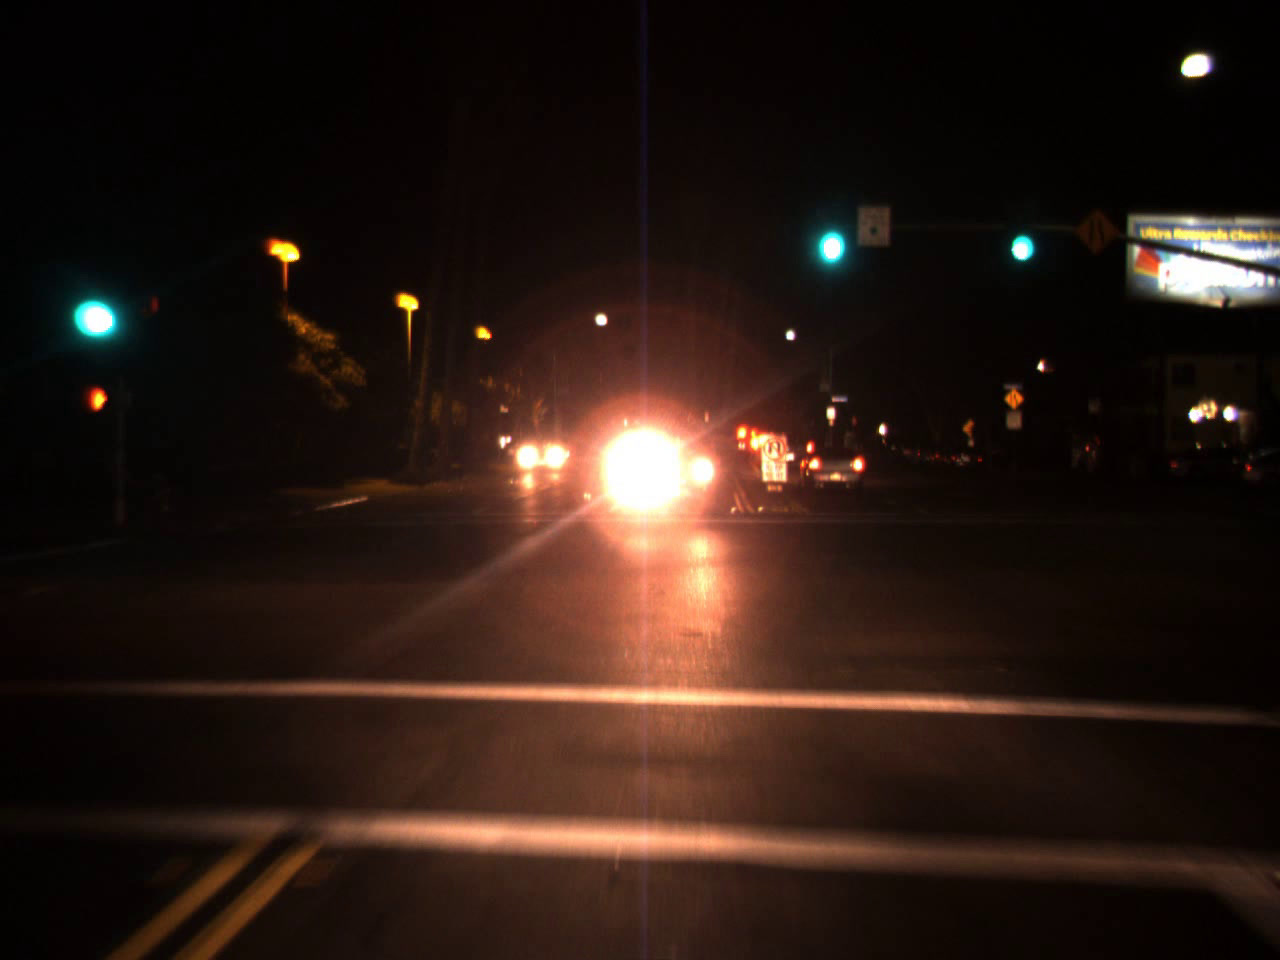go: (806, 189, 851, 276), (70, 269, 120, 344), (1003, 206, 1037, 266)
